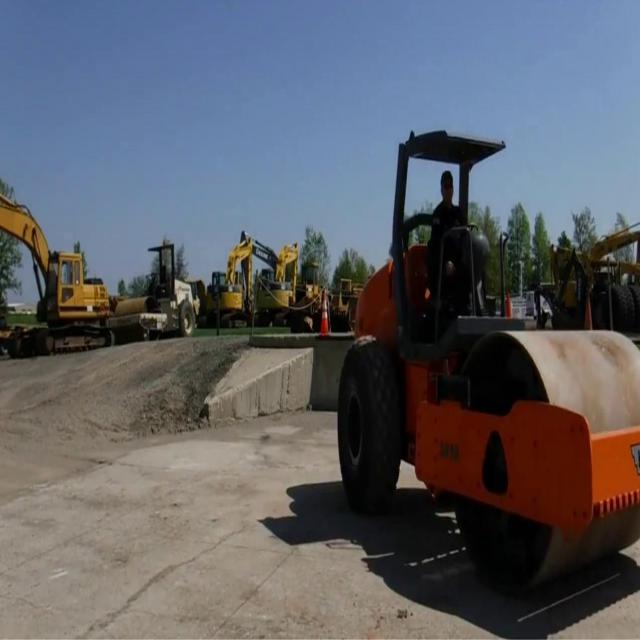Excavator: (0, 200, 114, 352)
Roller: (337, 131, 640, 593), (116, 244, 198, 335)
